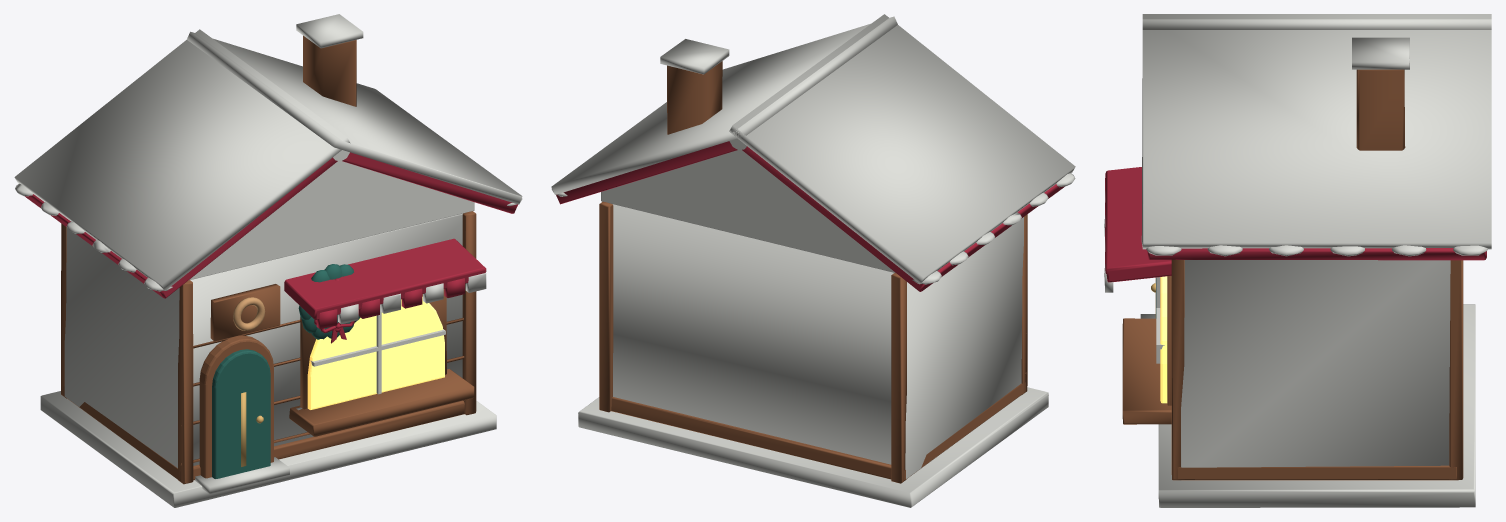
File: bakery2.glb
3 views of the same model, side by side, from view 1: azimuth 30°, elevation 25°; view 2: azimuth 150°, elevation 25°; view 3: azimuth 270°, elevation 25° (orthographic). The views are drawn at different scales.
Parts seen in each view (by area): view 1: cream, oak, berry, light, pine, biscuit; view 2: cream, oak, berry; view 3: cream, oak, berry, light.
Part boxes in pixels (x1=…): cream: x1=14, y1=14, x2=522, y2=507; oak: x1=61, y1=35, x2=476, y2=484; berry: x1=25, y1=152, x2=517, y2=343; light: x1=307, y1=296, x2=444, y2=409; pine: x1=212, y1=264, x2=360, y2=478; biscuit: x1=233, y1=297, x2=265, y2=330; cream: x1=551, y1=14, x2=1075, y2=507; oak: x1=599, y1=61, x2=1027, y2=483; berry: x1=556, y1=141, x2=1064, y2=291; cream: x1=1104, y1=14, x2=1491, y2=507; oak: x1=1122, y1=69, x2=1463, y2=480; berry: x1=1105, y1=167, x2=1486, y2=282; light: x1=1160, y1=276, x2=1167, y2=403.
Size of the model in its own units: 3.69 by 3.32 by 2.79.
